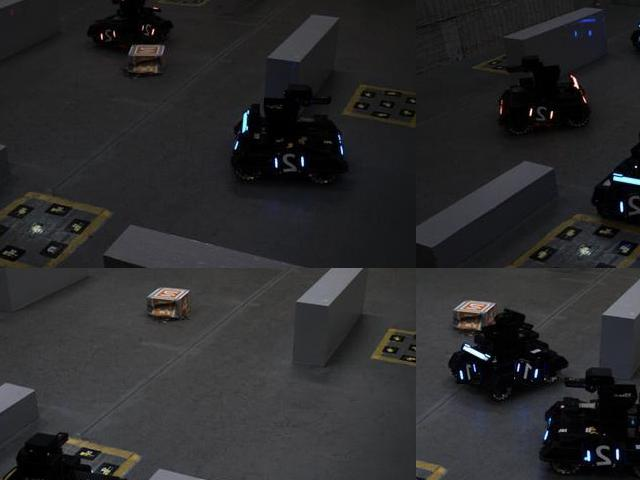armor: (582, 439, 626, 467), (272, 147, 307, 178), (523, 103, 564, 126), (514, 358, 545, 385), (616, 190, 639, 223), (458, 359, 482, 385), (97, 24, 120, 48), (140, 21, 161, 40)
